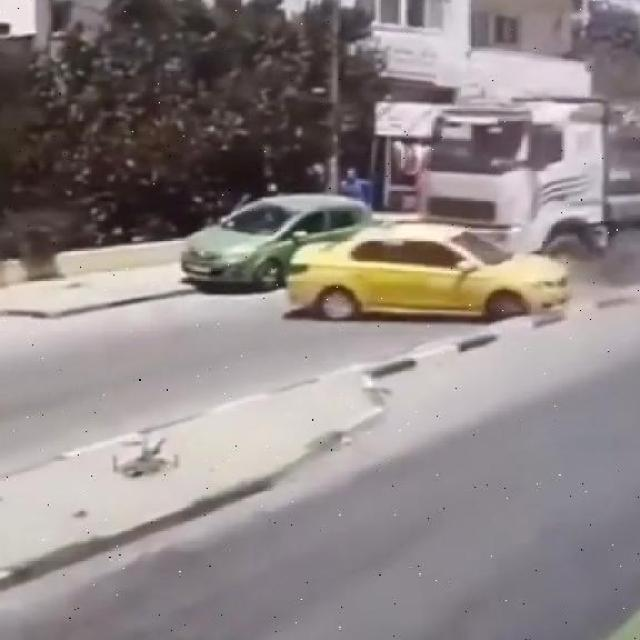accident: (289, 93, 640, 319)
